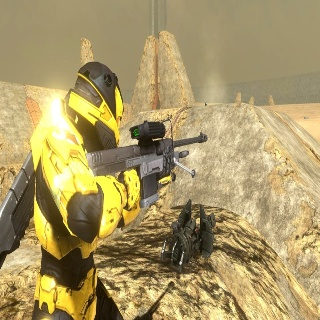rifle: (82, 119, 213, 209)
